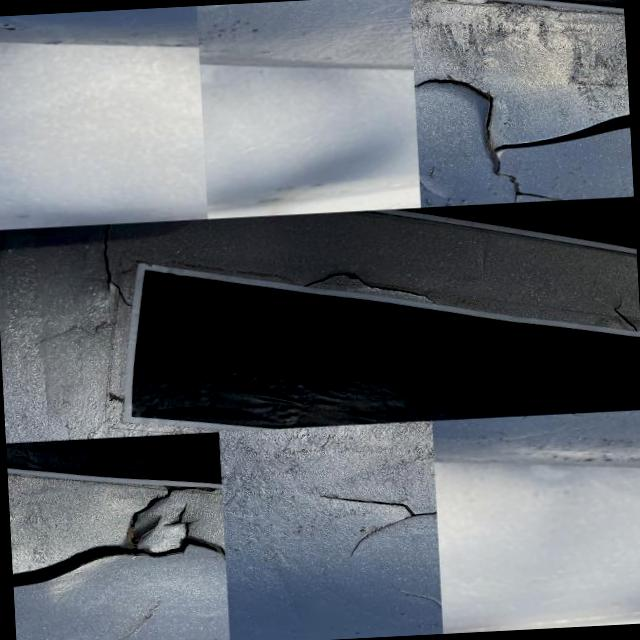dent: (28, 496, 218, 590), (442, 73, 627, 169), (300, 479, 442, 557)
